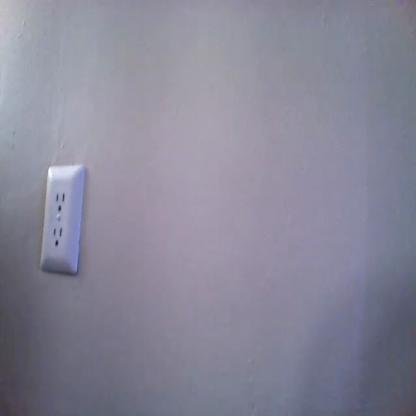OUTLET: (38, 164, 85, 274)
